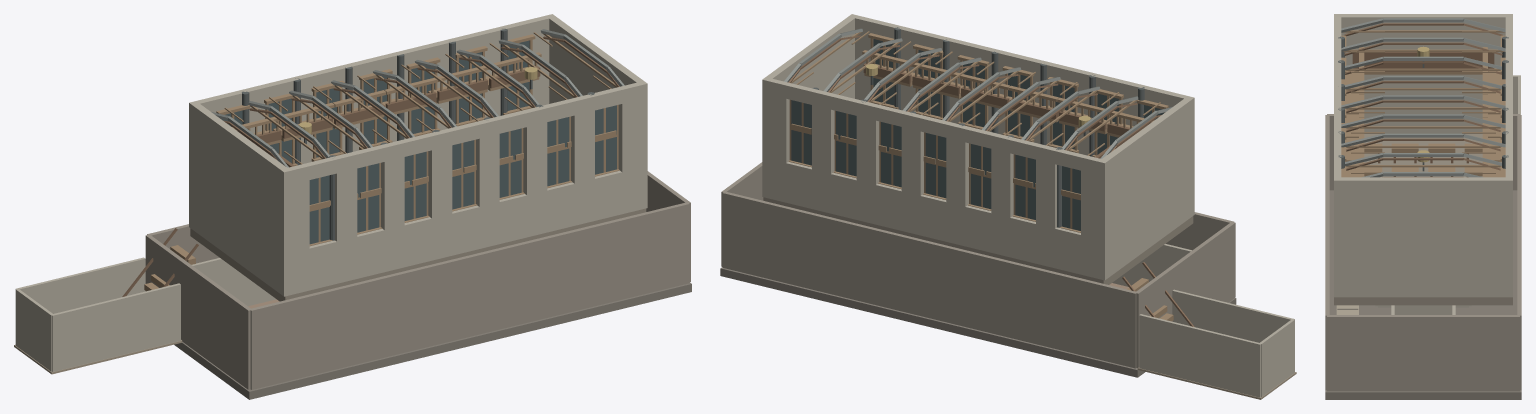
File: first_international_printshop.glb
The picture shows the model from 3 angles, left to right: view 1: azimuth 30°, elevation 25°; view 2: azimuth 150°, elevation 25°; view 3: azimuth 270°, elevation 25°; orthographic projection. The views are drawn at different scales.
Visible parts, largest first — view 1: geometry_0; view 2: geometry_0; view 3: geometry_0.
Part boxes in pixels (x1,y1,x2,y2): geometry_0: (14, 14, 691, 399); geometry_0: (720, 14, 1296, 399); geometry_0: (1325, 14, 1521, 399).
Bounding box in the file's own units: 19.3 × 6.96 × 6.1.
